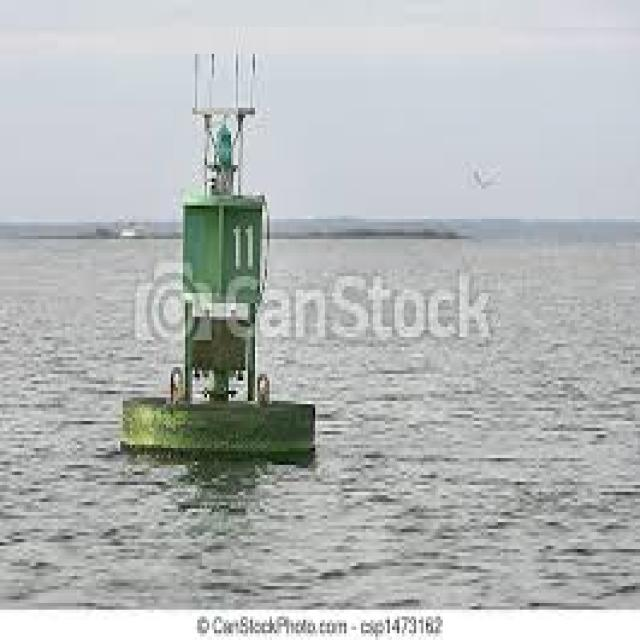marque: (102, 16, 327, 479)
